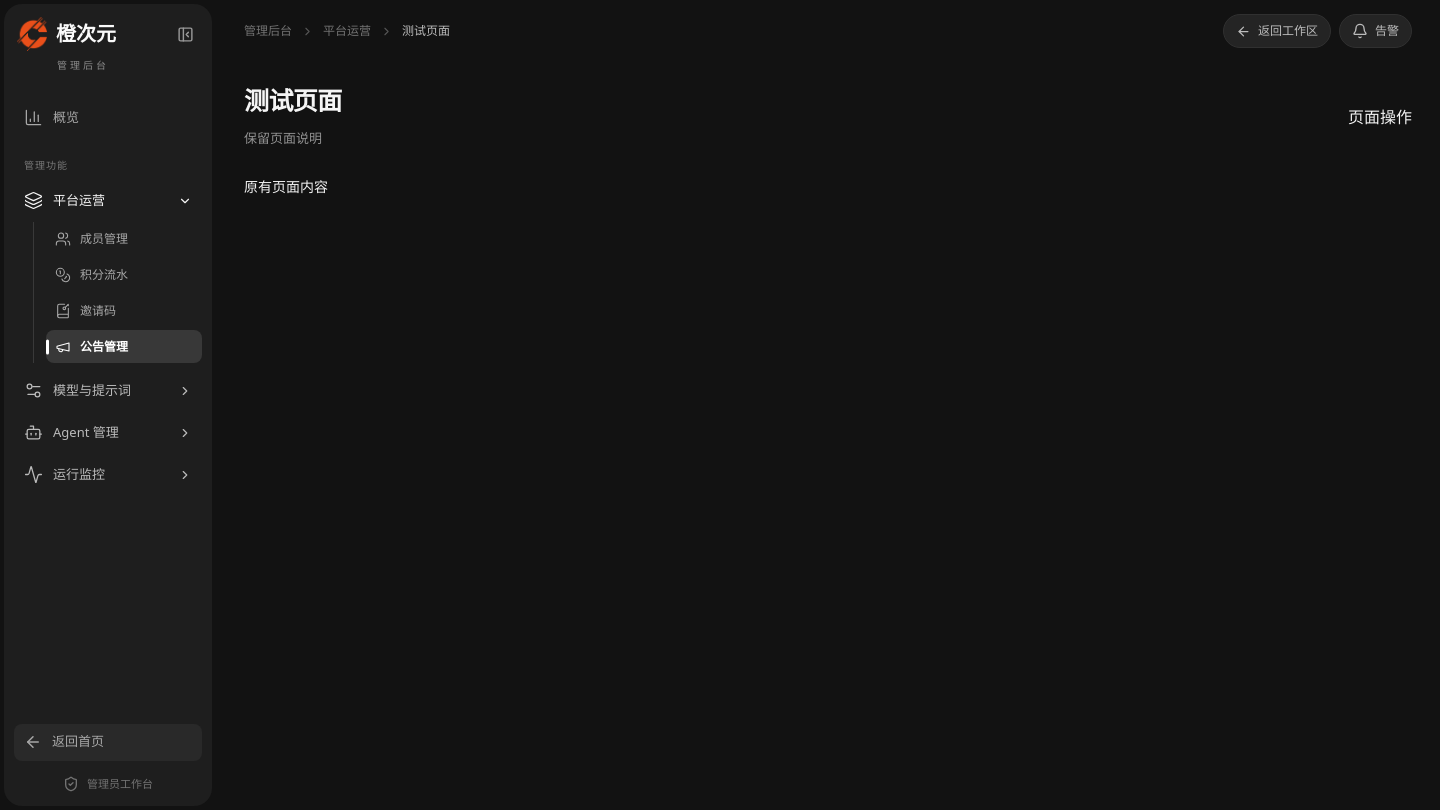
Test: 后台分级导航 › 整栏收起状态持久化，点击图标分组可以直接展开
Click the button named "收起后台侧边栏" at (185, 34), box [171,20,199,48]
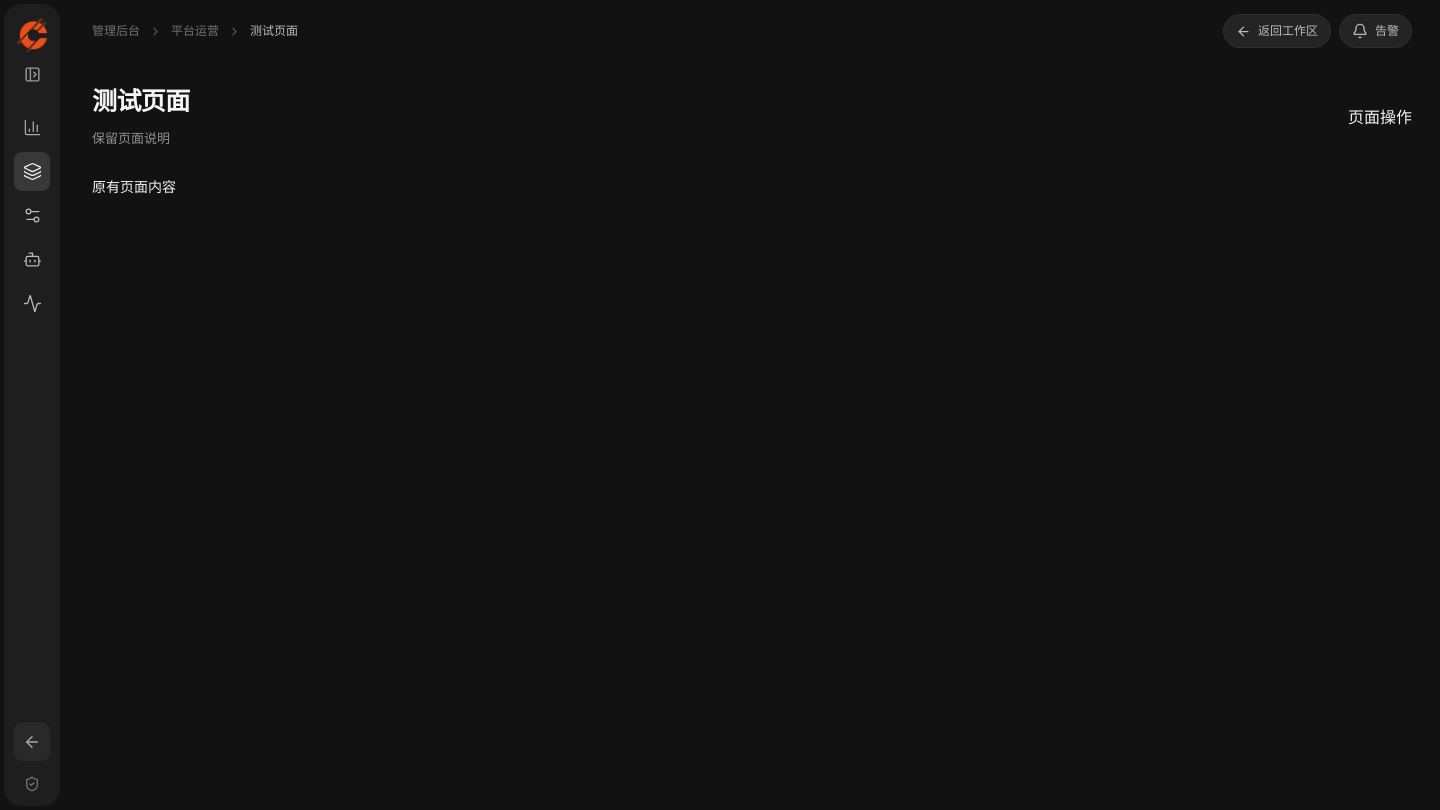
Now the element with class "admin-workbench" has attribute data-collapsed="true"
Click the button named "Agent 管理" at (32, 260), box [14,240,50,279]
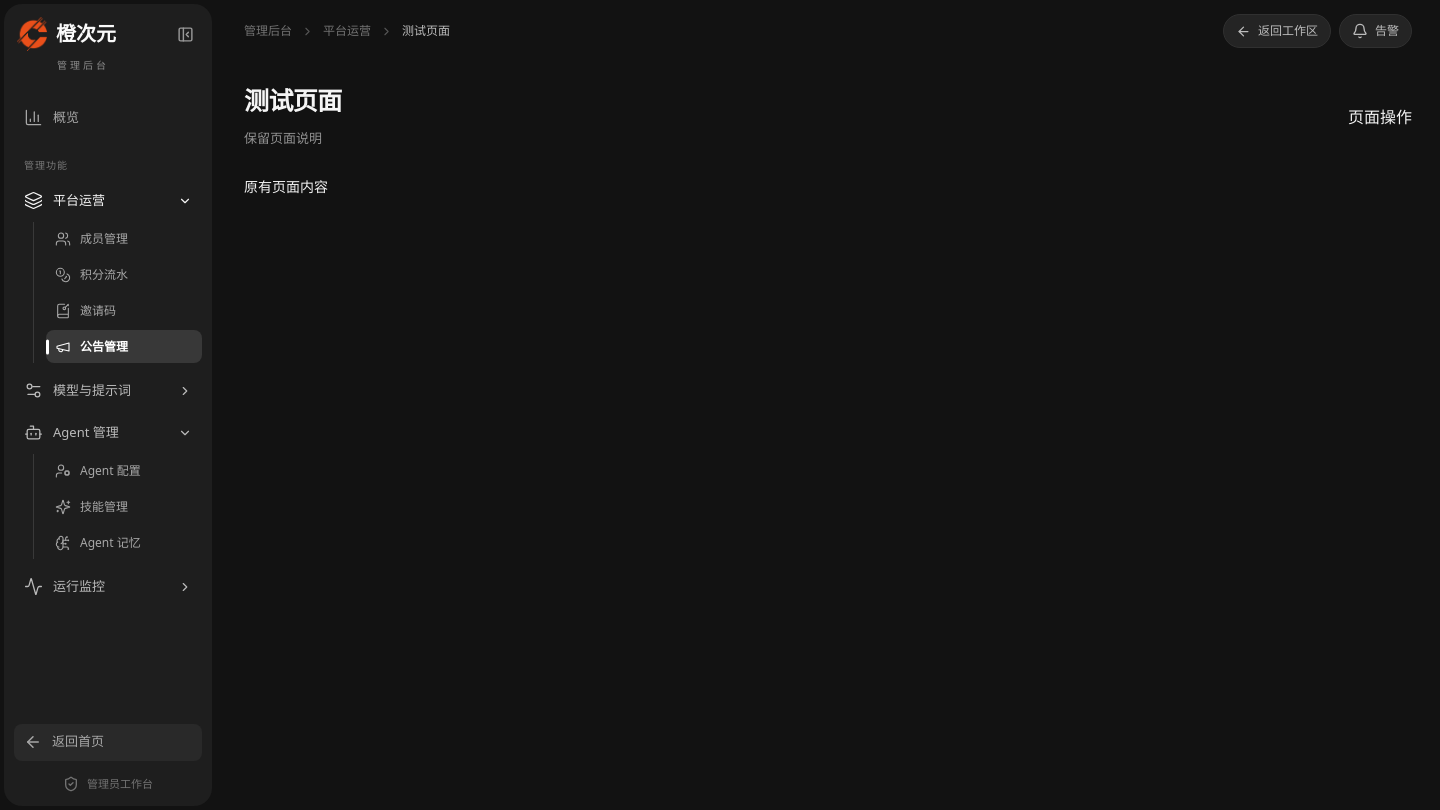
Now the button "Agent 管理" is expanded, box [14,414,202,451]
